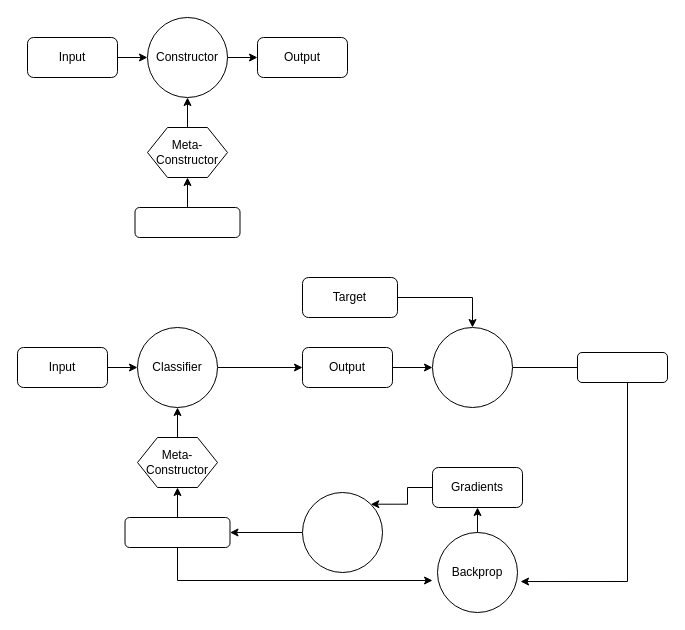
Image size: 685x630. Some labels were removed from this diagram. The box of each missing label's shape, as (x1, y1, x2, y2) in pixels:
Loss: (576, 352, 668, 382)
Loss Function: (432, 326, 512, 408)
Optimizer: (302, 492, 382, 572)
Recipe: (134, 206, 240, 238)
Weights: (124, 516, 230, 548)
